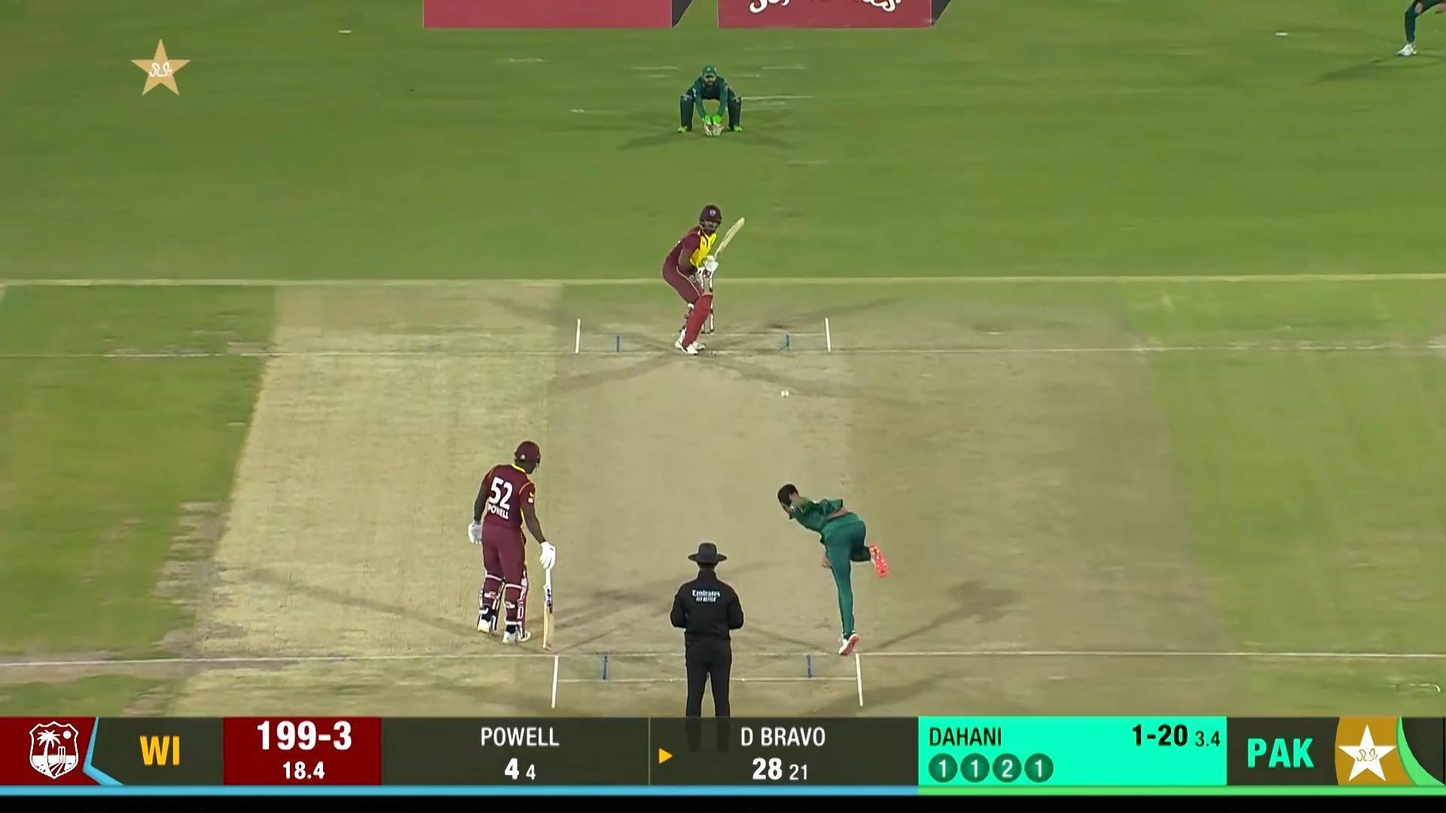BM 1: (661, 203, 746, 357)
BO: (776, 482, 890, 656)
